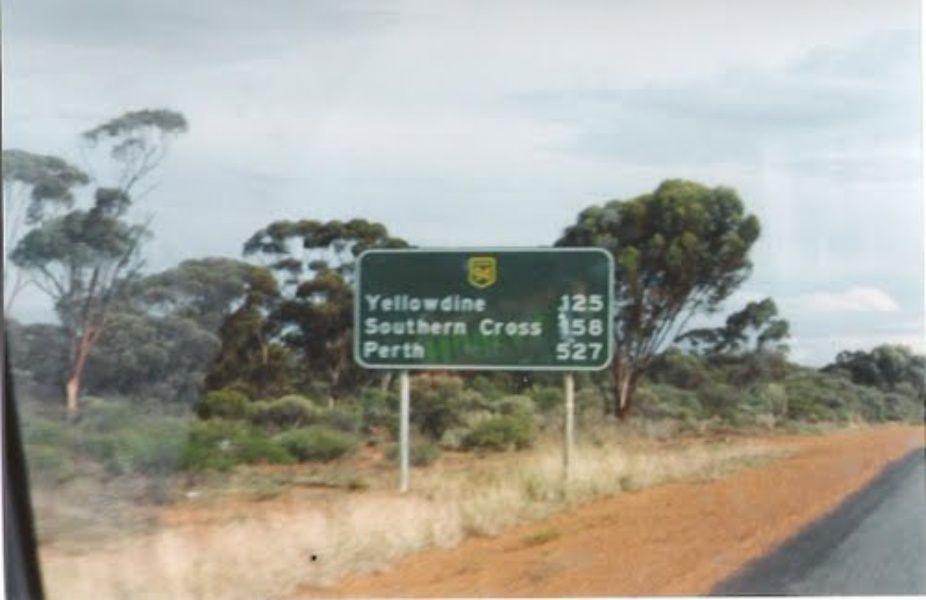text: (529, 317, 545, 338), (369, 291, 384, 313), (385, 291, 400, 313), (401, 291, 416, 313), (417, 291, 432, 313), (433, 291, 448, 313), (449, 291, 464, 313), (465, 291, 480, 313), (369, 315, 384, 336), (385, 315, 400, 336), (401, 315, 416, 336), (417, 315, 432, 336), (433, 315, 448, 336), (449, 315, 464, 336), (369, 339, 384, 360), (385, 339, 400, 360), (401, 339, 416, 360), (481, 317, 496, 338), (497, 317, 512, 338), (513, 317, 528, 338), (561, 315, 576, 336), (577, 315, 592, 336), (561, 293, 576, 312), (577, 293, 592, 312), (561, 341, 576, 360), (577, 341, 592, 360), (417, 339, 428, 360), (593, 315, 604, 336), (593, 293, 604, 312), (593, 341, 604, 360), (481, 291, 488, 313), (362, 291, 368, 313), (465, 315, 471, 336), (363, 315, 368, 336), (363, 339, 368, 360), (556, 315, 560, 336), (556, 341, 560, 360), (478, 317, 480, 338), (558, 293, 560, 312)
